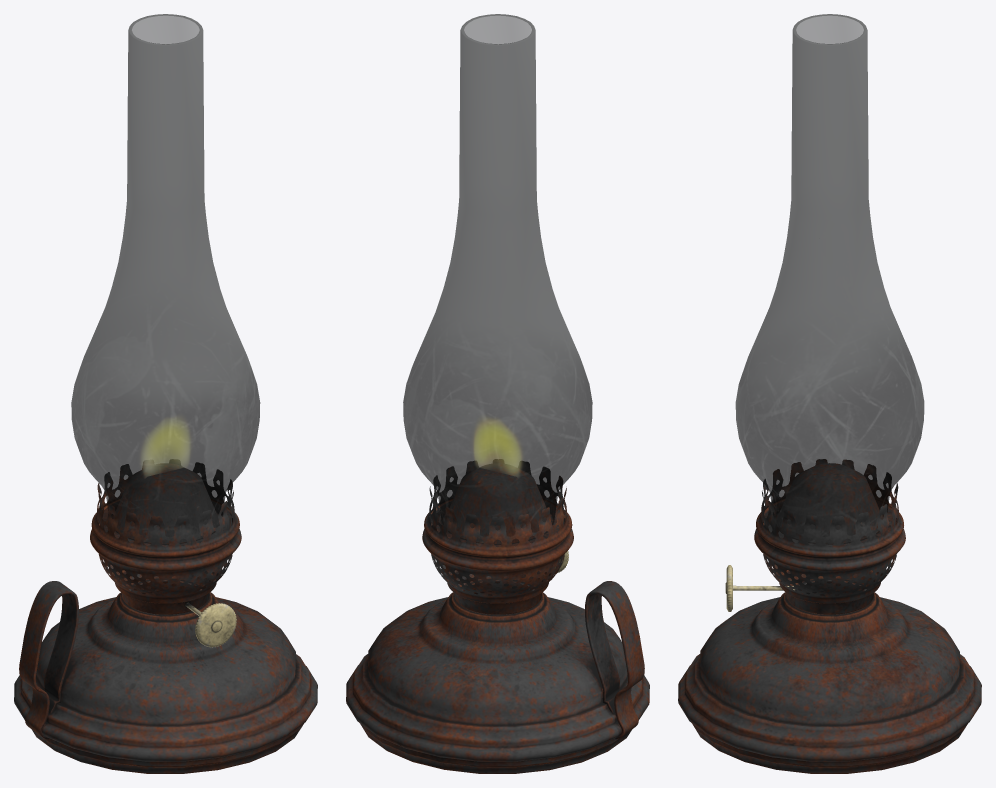
The model's file is kerosene_lamp_vintage_ww2.glb.
3 renders of one model, left to right at view 1: azimuth 30°, elevation 25°; view 2: azimuth 150°, elevation 25°; view 3: azimuth 270°, elevation 25°, orthographic.
Parts seen in each view (by area): view 1: Kerosene; view 2: Kerosene; view 3: Kerosene.
Boxes of the visible parts, bbox=[...] form: Kerosene: bbox=[14, 14, 317, 773]; Kerosene: bbox=[346, 14, 649, 773]; Kerosene: bbox=[678, 14, 981, 773].
Size of the model in its own units: 0.1926 by 0.4658 by 0.1868.
1 material, 1 textured.
